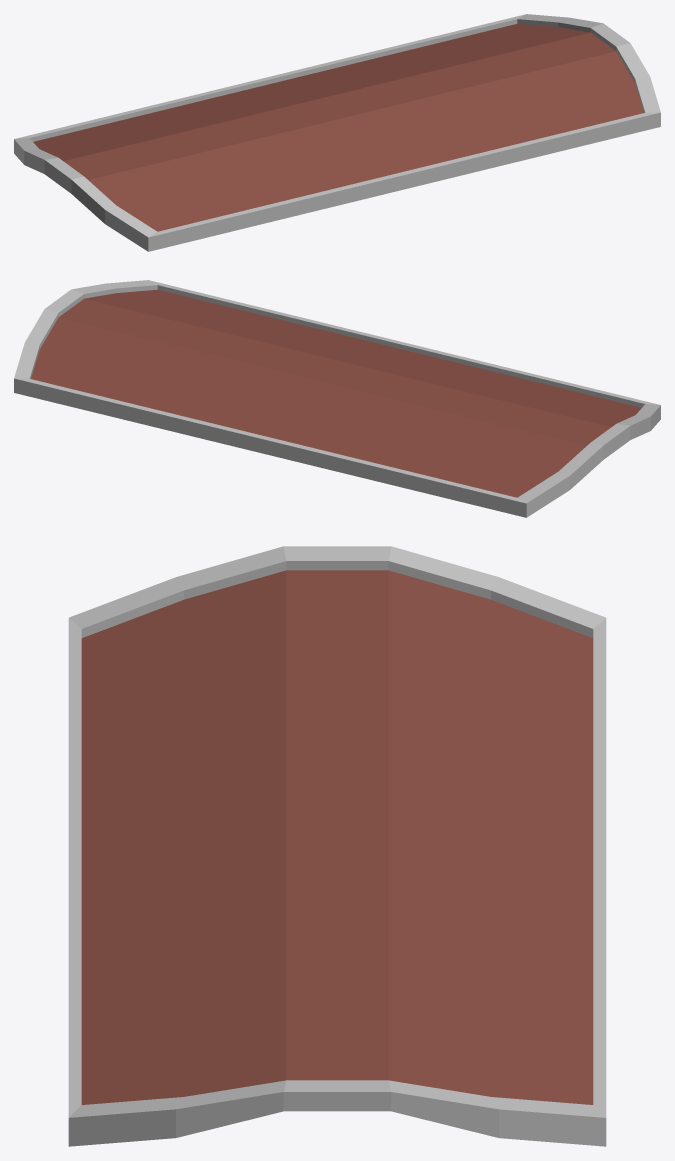
The model's file is Shield_2_a_r.fbx.
The picture shows the model from 3 angles, top to bottom: view 1: azimuth 30°, elevation 25°; view 2: azimuth 150°, elevation 25°; view 3: azimuth 270°, elevation 25°; orthographic projection. The views are drawn at different scales.
Visible parts, largest first — view 1: Plane.076, Plane.094; view 2: Plane.076, Plane.094; view 3: Plane.076, Plane.094.
Boxes of the visible parts, x1,y1,x2,y2 form: Plane.076: (33, 23, 643, 231); Plane.094: (14, 14, 660, 251); Plane.076: (31, 289, 641, 497); Plane.094: (14, 280, 660, 517); Plane.076: (81, 570, 593, 1104); Plane.094: (68, 546, 606, 1146).
Bounding box in the file's own units: 126 × 14.33 × 52.54.
